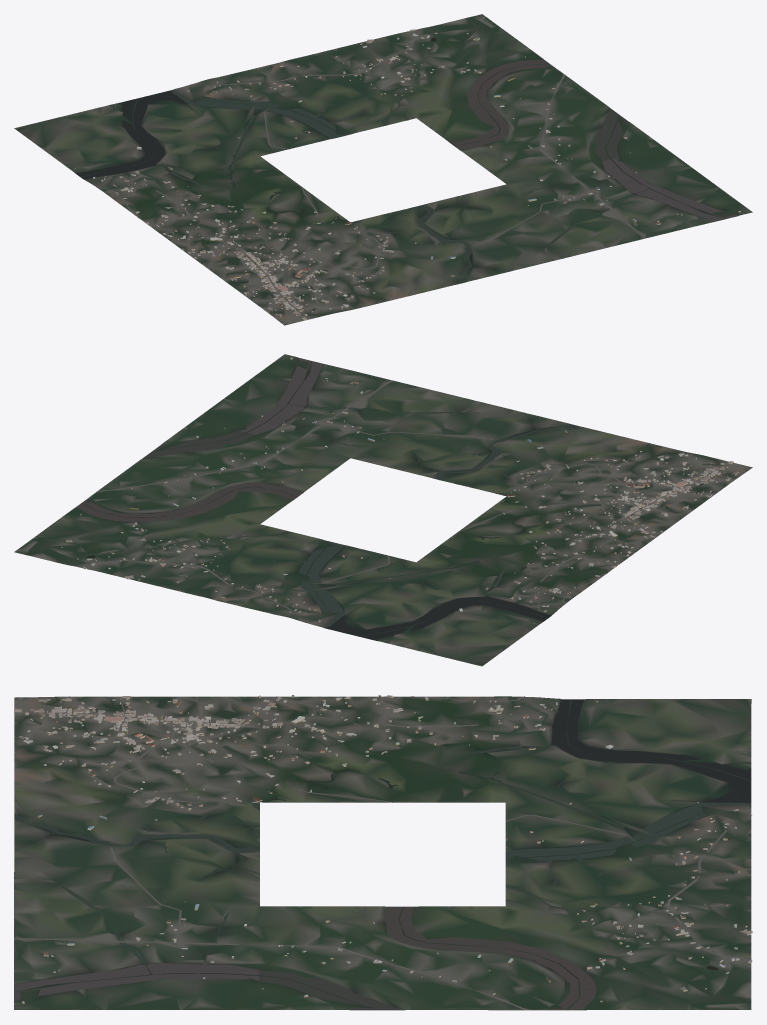
3 views of the same model, one above another, from view 1: azimuth 30°, elevation 25°; view 2: azimuth 150°, elevation 25°; view 3: azimuth 270°, elevation 25° (orthographic). The views are drawn at different scales.
Visible parts, largest first — view 1: ground, water, buildings, roads; view 2: ground, water, buildings, roads; view 3: ground, water, buildings, roads.
Boxes of the visible parts, left/top/right/bottom form: ground: left=14, top=14, right=752, bottom=325; water: left=76, top=38, right=737, bottom=284; buildings: left=74, top=29, right=740, bottom=320; roads: left=95, top=31, right=645, bottom=319; ground: left=14, top=354, right=752, bottom=666; water: left=76, top=358, right=579, bottom=640; buildings: left=61, top=357, right=738, bottom=623; roads: left=87, top=380, right=733, bottom=622; ground: left=14, top=696, right=751, bottom=1010; water: left=14, top=699, right=751, bottom=1010; buildings: left=14, top=695, right=752, bottom=1003; roads: left=14, top=696, right=751, bottom=1010.
Size of the model in its own units: 4209 by 32.65 by 4212.
